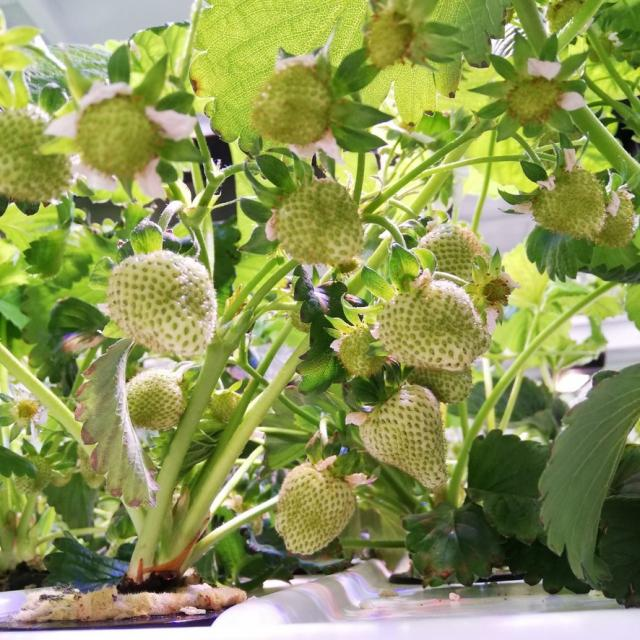Healthy Fruit: (106, 250, 217, 357), (379, 279, 492, 371), (360, 385, 449, 489), (269, 178, 364, 266), (275, 464, 357, 556), (0, 105, 72, 203), (420, 223, 489, 280), (126, 370, 184, 431)
